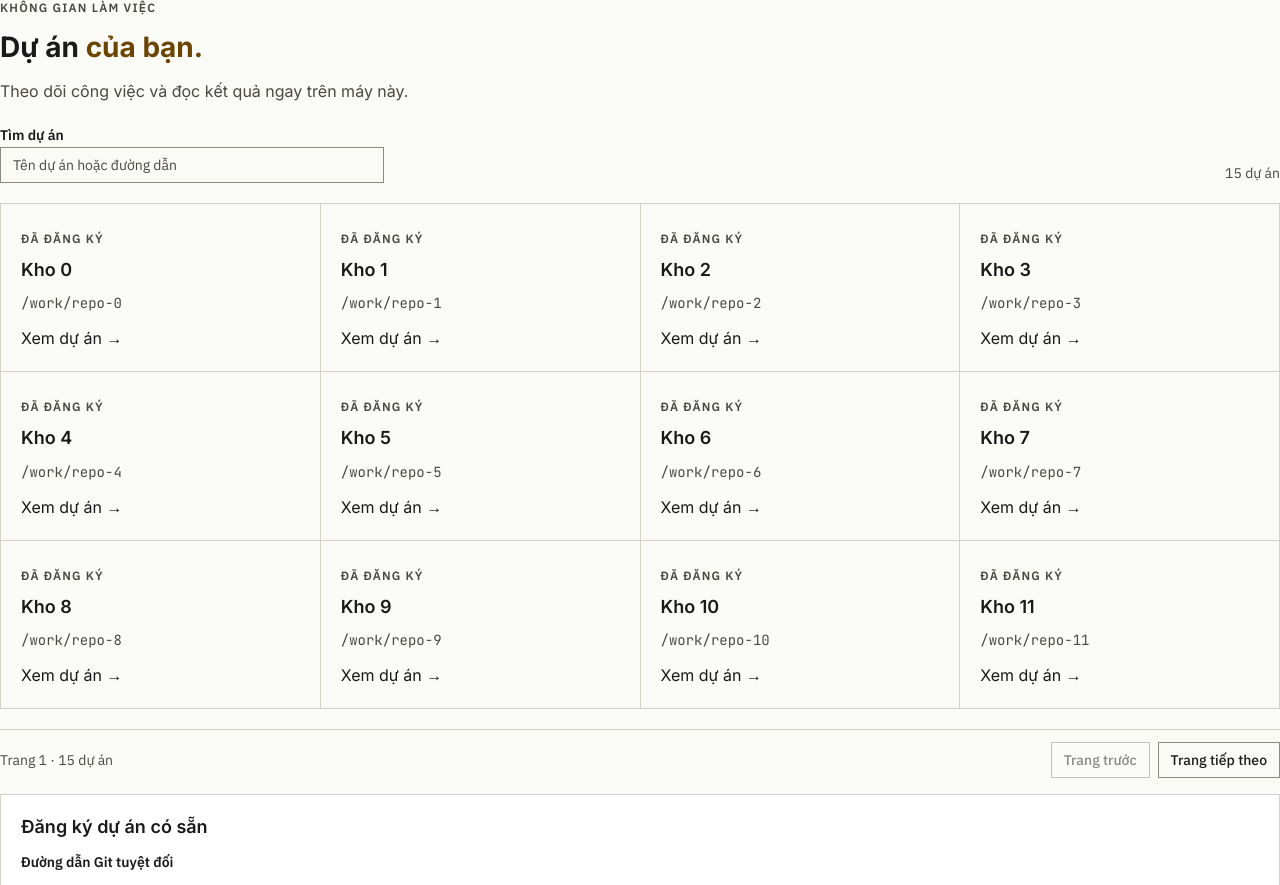
Test: paginates projects, searches paths and distinguishes no search results
The width and height of the screenshot is (1280, 885).
Click the button "Trang tiếp theo" at (1219, 760), box [1158,742,1279,778]
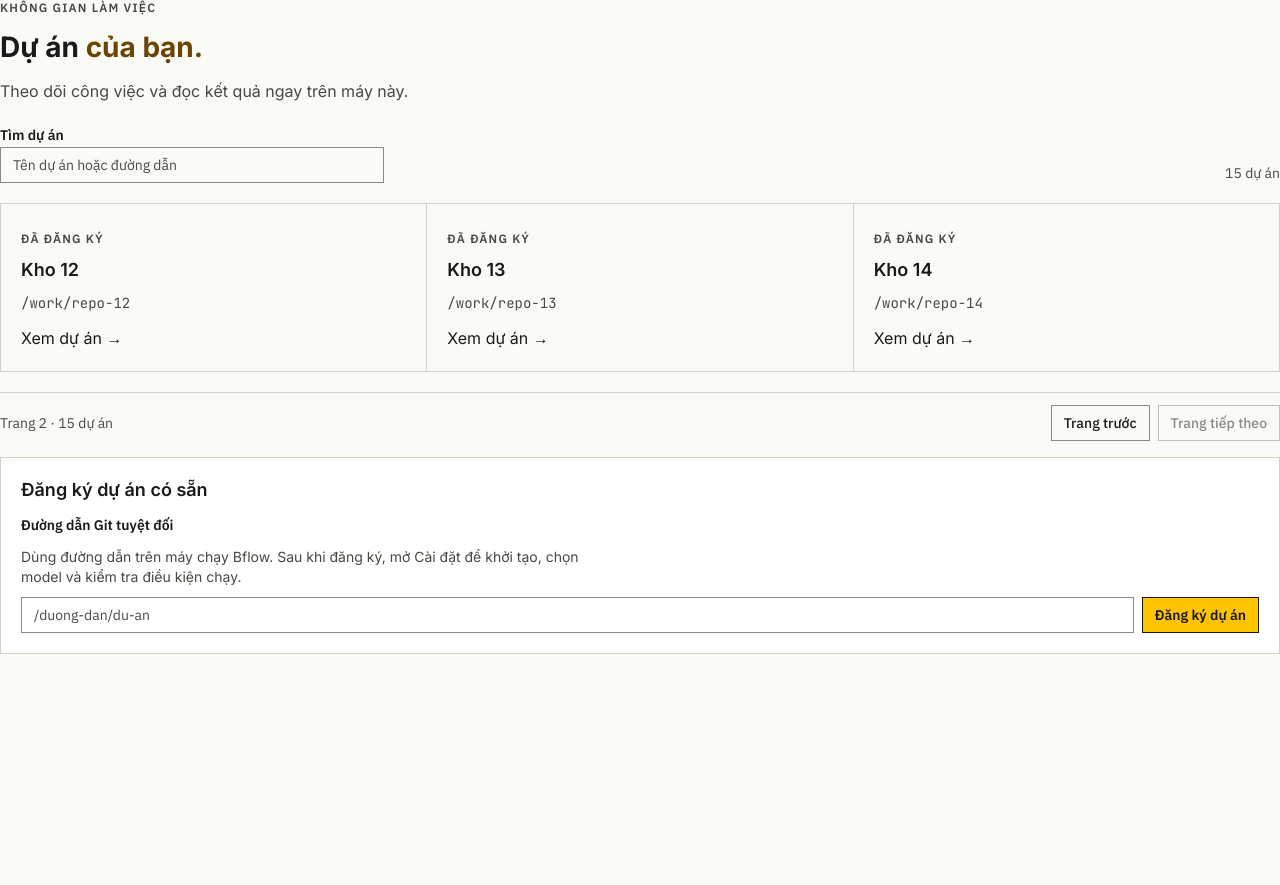
Expected: the number of links "Đã đăng ký Kho 12 /work/repo-12 Xem dự án →" is 3, [1,204,426,371]; [427,204,853,371]; [854,204,1279,371]
Type "repo-14" into the search field labelled "Tìm dự án" at (192, 164), box [0,146,384,182]
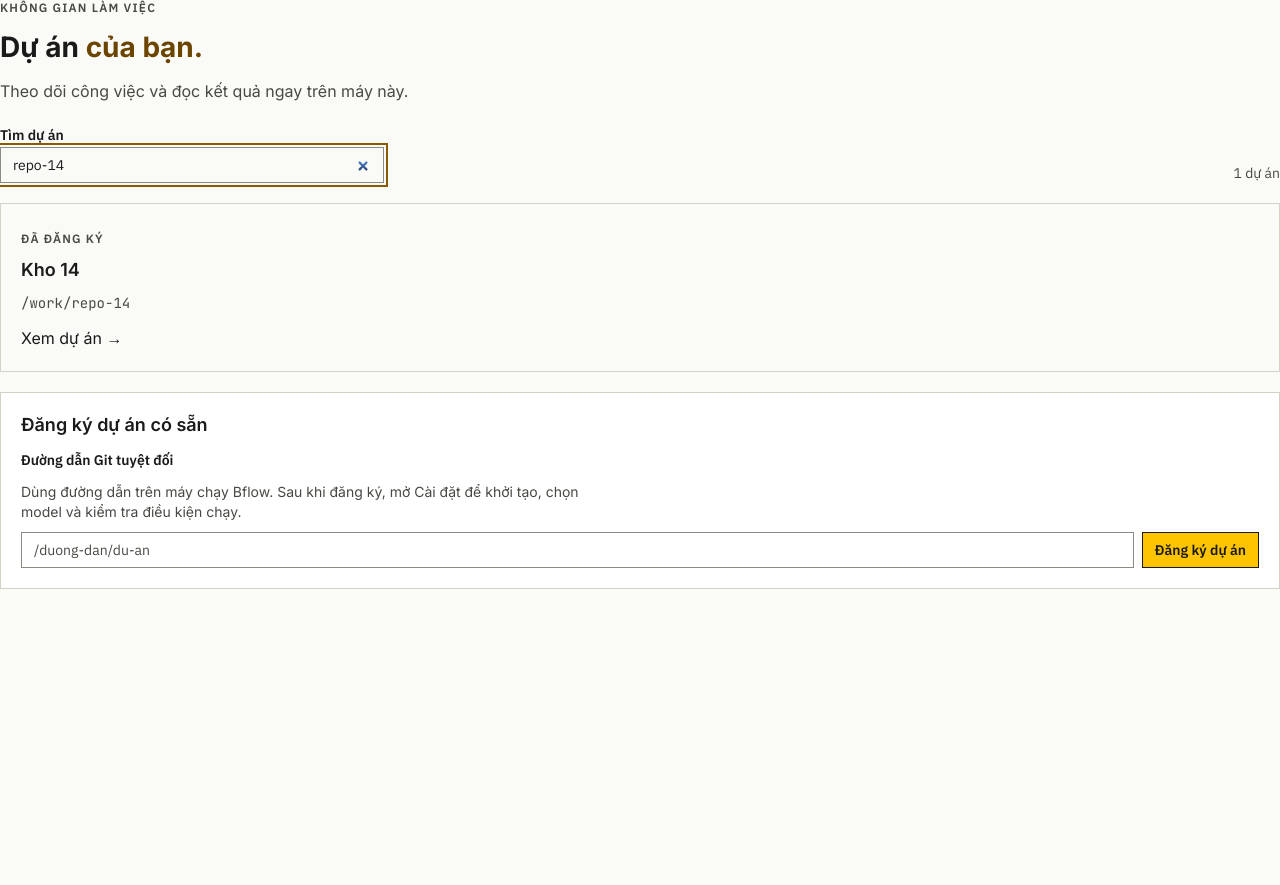
Expected: the number of links "Đã đăng ký Kho 14 /work/repo-14 Xem dự án →" is 1, [1,204,1279,371]
Replace the text in the search field labelled "Tìm dự án" with "absent" at (192, 164), box [0,146,384,182]
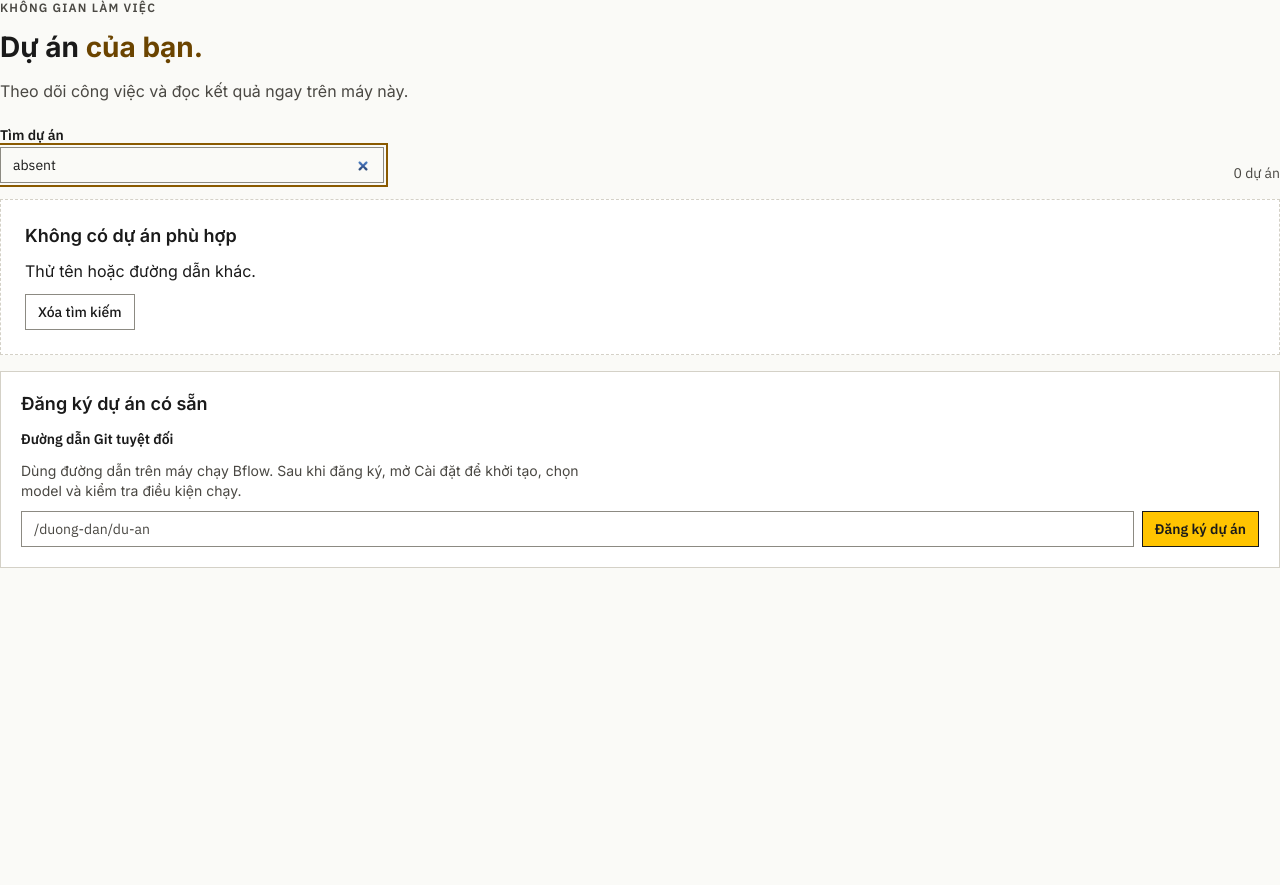
Expected: the heading "Không có dự án phù hợp" is shown, [25,224,237,246]
